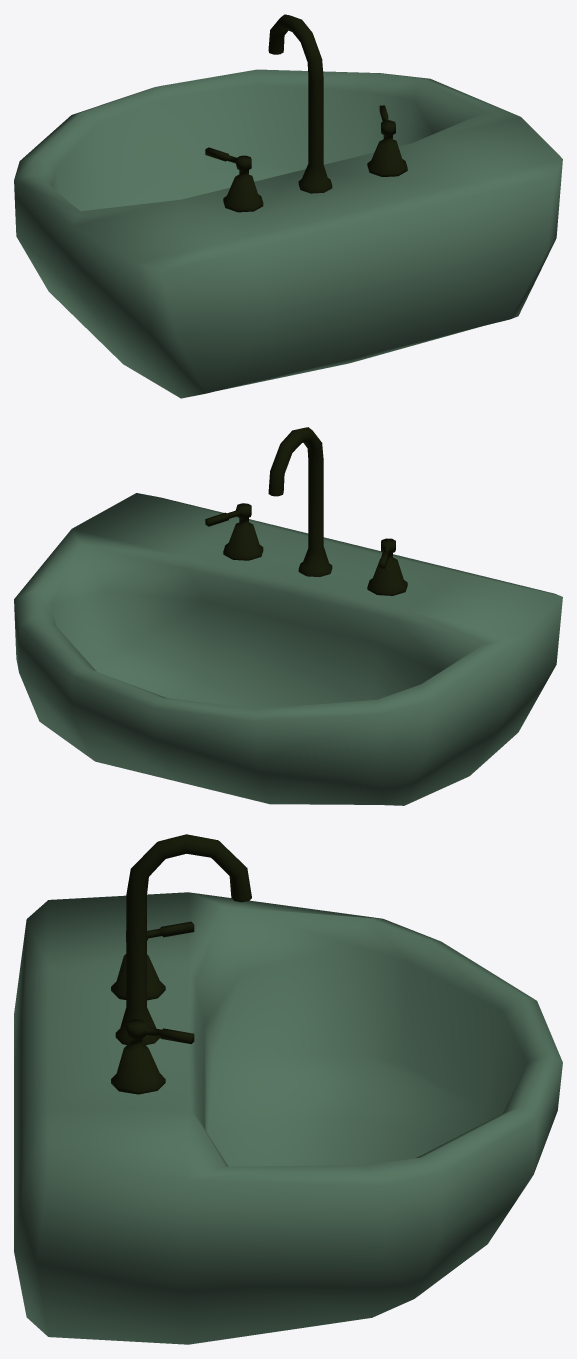
Rendered from Sink_02.fbx.
The picture shows the model from 3 angles, top to bottom: view 1: azimuth 30°, elevation 25°; view 2: azimuth 150°, elevation 25°; view 3: azimuth 270°, elevation 25°; orthographic projection. The views are drawn at different scales.
Visible parts, largest first — view 1: Cylinder.001; view 2: Cylinder.001; view 3: Cylinder.001.
Boxes of the visible parts, x1,y1,x2,y2 form: Cylinder.001: (14,14,562,398); Cylinder.001: (14,427,562,805); Cylinder.001: (14,834,562,1344).
Size of the model in its own units: 890 by 581 by 717.
